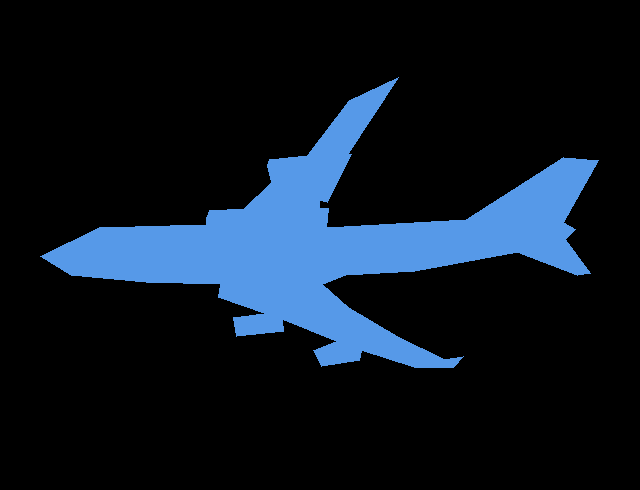Airplane: (40, 77, 599, 368)
